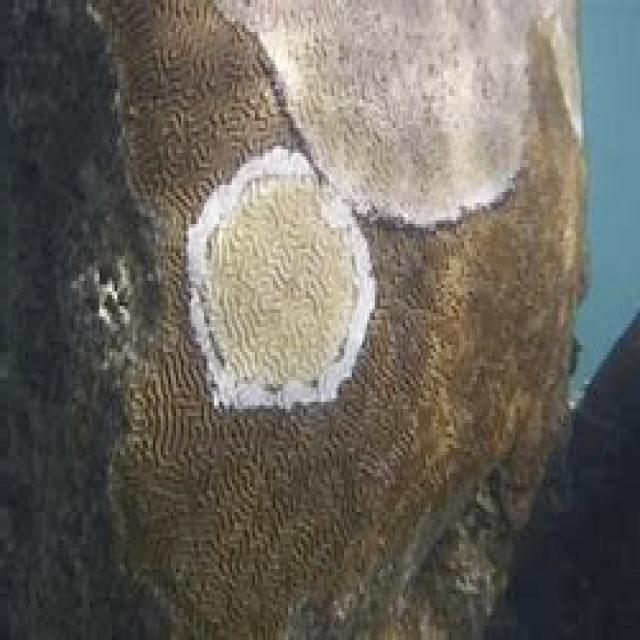Coral: (85, 0, 593, 640)
